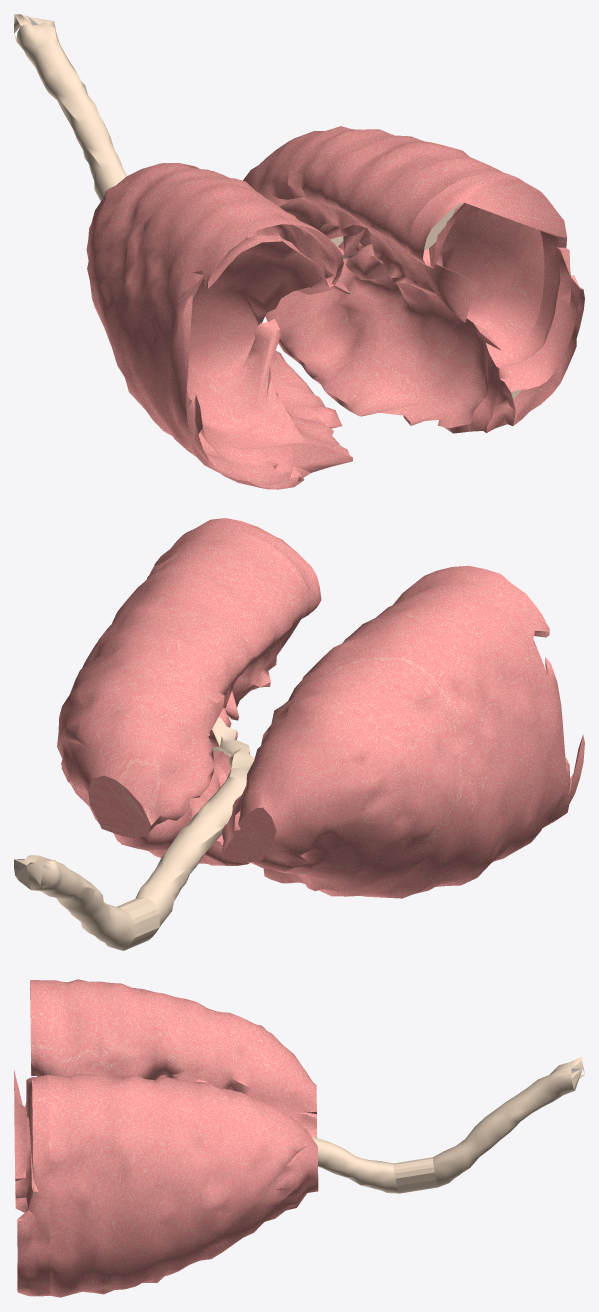
File: paru-paru sapi.dae
3 renders of one model, top to bottom at view 1: azimuth 30°, elevation 25°; view 2: azimuth 150°, elevation 25°; view 3: azimuth 270°, elevation 25°, orthographic. The views are drawn at different scales.
Visible parts, largest first — view 1: group_0 (×3); view 2: group_0 (×5); view 3: group_0 (×5).
Boxes of the visible parts, left/top/right/bottom form: group_0 (×3): left=14, top=14, right=584, bottom=489; group_0 (×5): left=14, top=518, right=584, bottom=950; group_0 (×5): left=14, top=979, right=584, bottom=1297.
Size of the model in its own units: 245 by 370 by 161.
